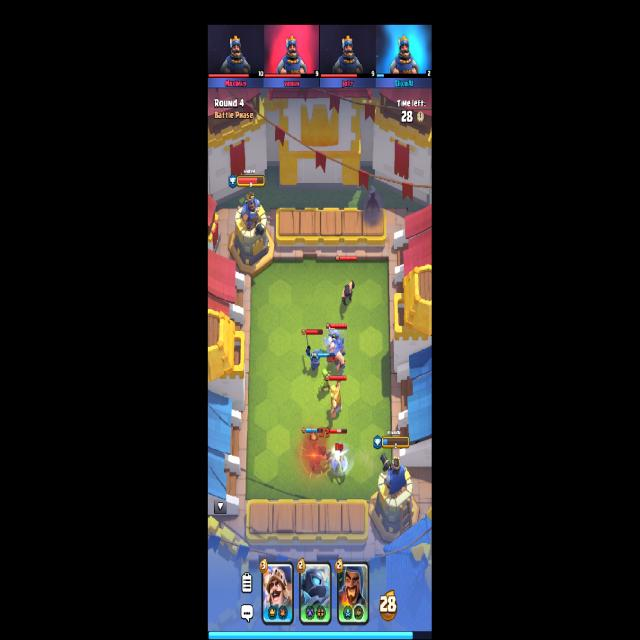card_mini_pekka: (299, 561, 332, 625)
card_prince: (262, 564, 294, 624)
card_wizard: (336, 562, 370, 625)
electro_giant: (326, 332, 347, 378)
executioner: (310, 441, 331, 474), (342, 280, 356, 305)
goblin: (318, 368, 332, 394)
golden_knight: (330, 382, 342, 419)
mini_pekka: (305, 332, 322, 372)
